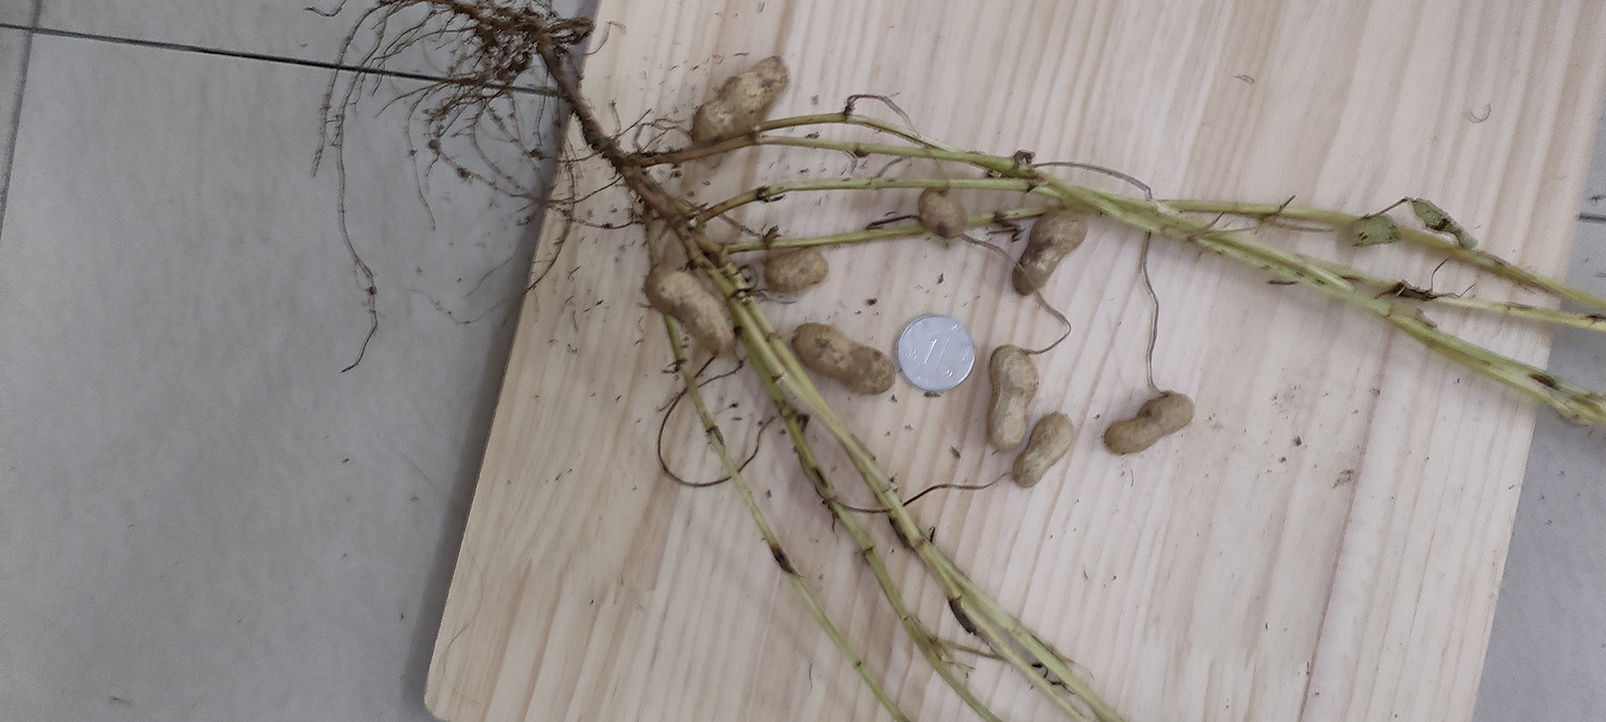h: (692, 55, 788, 143), (644, 263, 734, 353), (792, 322, 896, 395), (1102, 392, 1196, 453), (987, 345, 1039, 448), (1012, 412, 1075, 489), (765, 247, 829, 294), (917, 188, 967, 239)
l: (1012, 208, 1088, 293)
